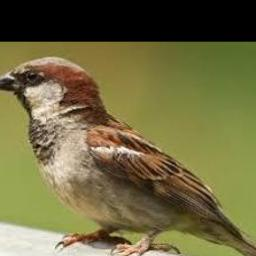Sparrow: (0, 56, 256, 256)
